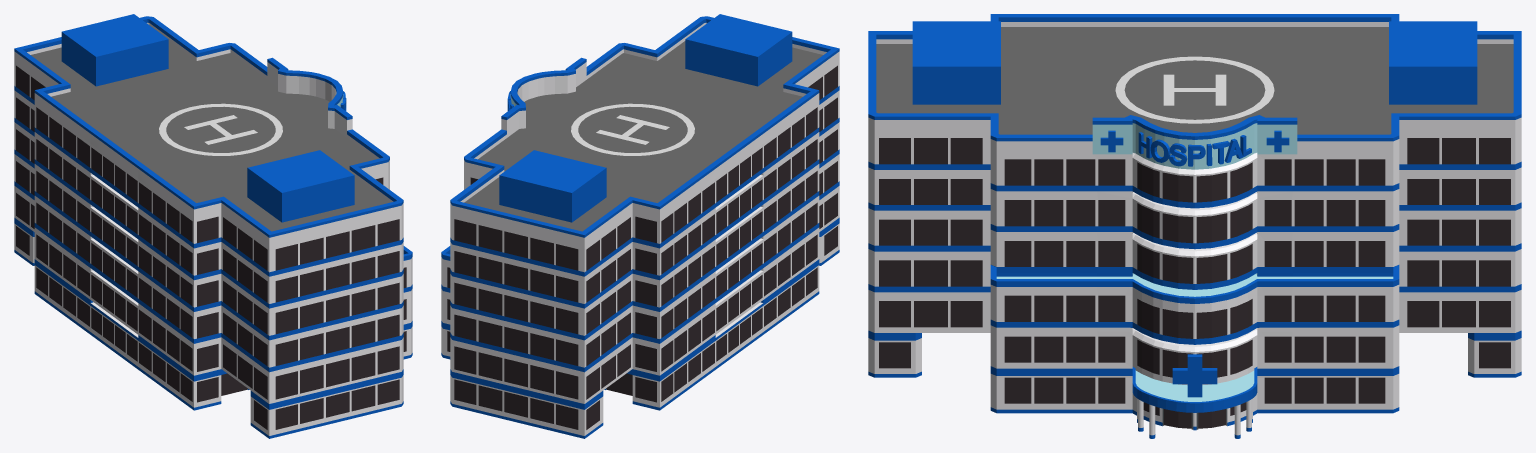
File: PublicBuilding_HospitalC.obj
3 views of the same model, side by side, from view 1: azimuth 30°, elevation 25°; view 2: azimuth 150°, elevation 25°; view 3: azimuth 270°, elevation 25° (orthographic). The views are drawn at different scales.
Parts seen in each view (by area): view 1: PublicBuilding_Hospital_Cylinder.050_Cylinder.040; view 2: PublicBuilding_Hospital_Cylinder.050_Cylinder.040; view 3: PublicBuilding_Hospital_Cylinder.050_Cylinder.040.
Part boxes in pixels (<box>): PublicBuilding_Hospital_Cylinder.050_Cylinder.040: <box>14,14,412,438</box>; PublicBuilding_Hospital_Cylinder.050_Cylinder.040: <box>441,14,839,438</box>; PublicBuilding_Hospital_Cylinder.050_Cylinder.040: <box>868,14,1521,438</box>.
Size of what is drawn, in the model's own units: 14.6 by 11.27 by 23.05.
Materials: 1 (1 with a texture image).
